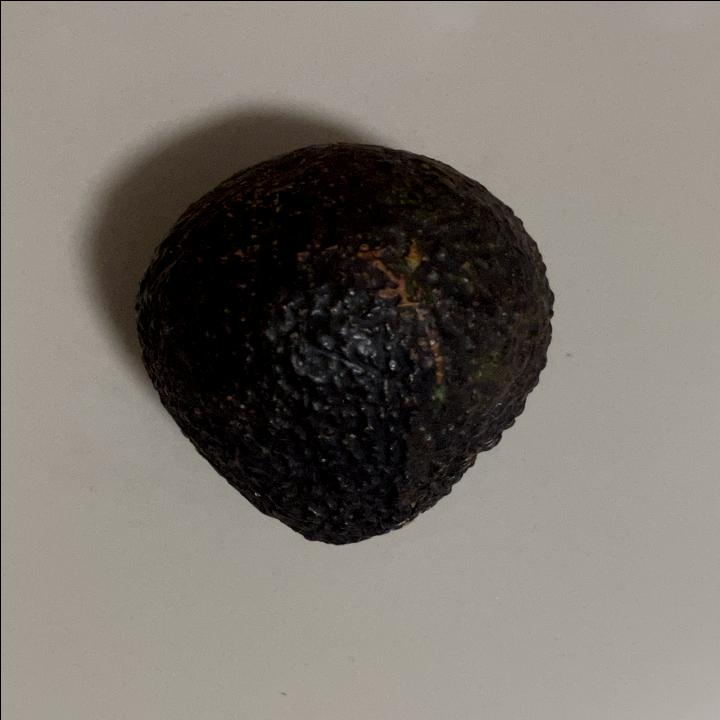Level2: (124, 136, 562, 556)
